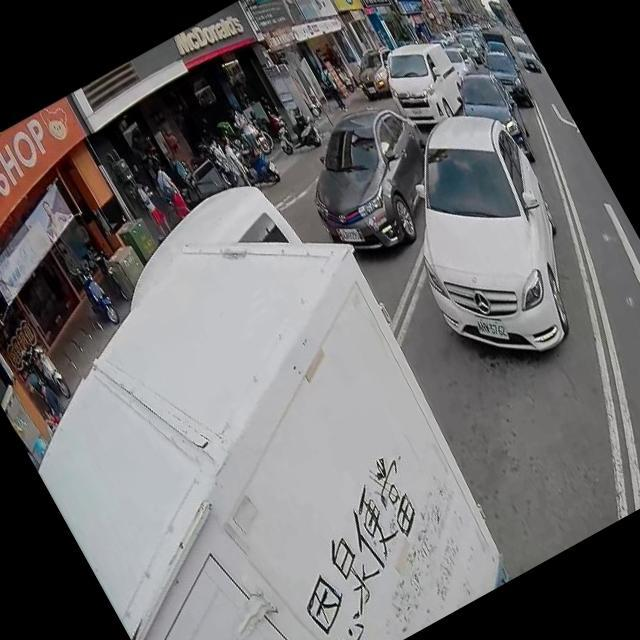person: (213, 130, 260, 195), (147, 158, 194, 223), (130, 170, 174, 238), (24, 367, 66, 424), (227, 103, 266, 159), (203, 138, 241, 190), (315, 62, 348, 112), (142, 144, 167, 177)
